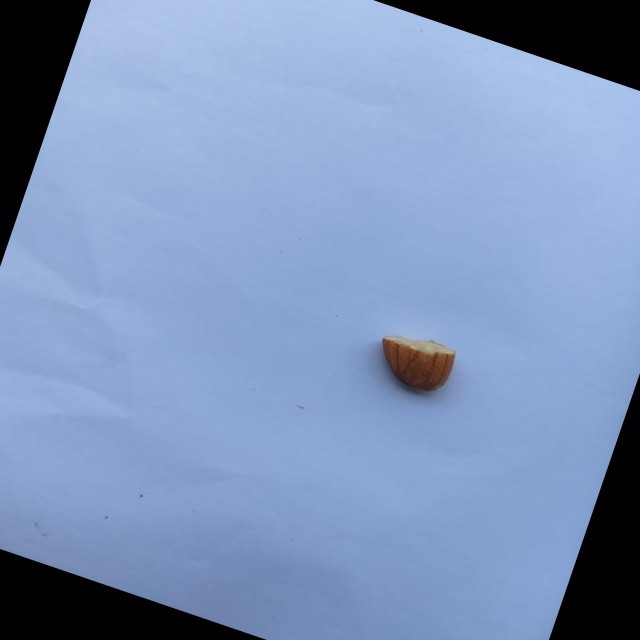grade4: (360, 319, 467, 407)
